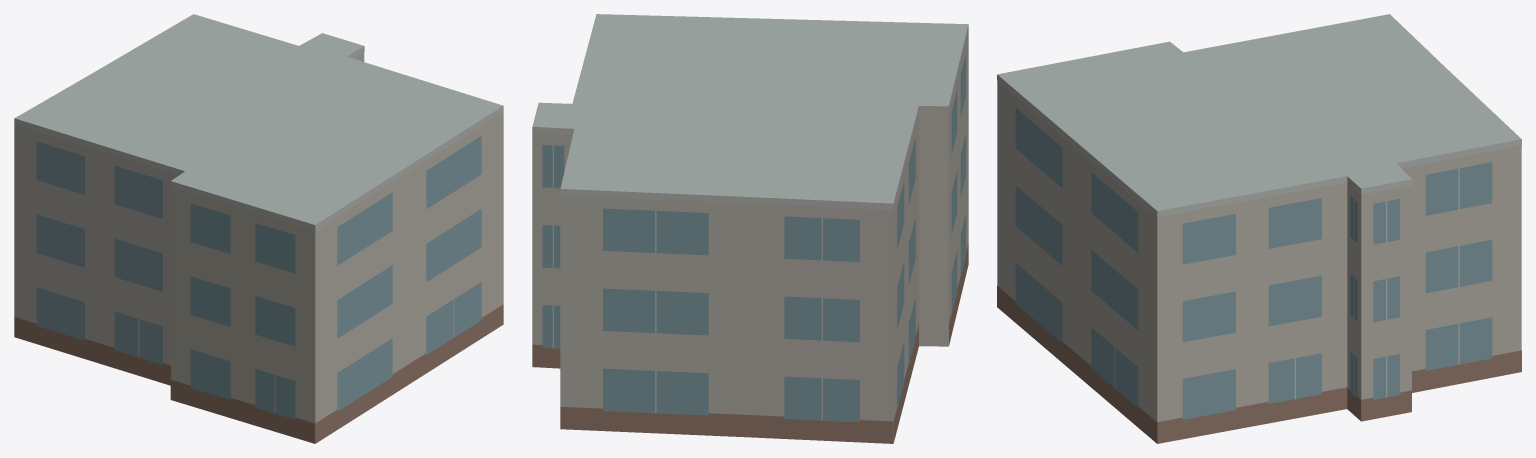
The model's file is survey-upis-32746664.glb.
3 views of the same model, side by side, from view 1: azimuth 30°, elevation 25°; view 2: azimuth 150°, elevation 25°; view 3: azimuth 270°, elevation 25° (orthographic). The views are drawn at different scales.
Parts seen in each view (by area): view 1: survey-upis-32746664.tmp; view 2: survey-upis-32746664.tmp; view 3: survey-upis-32746664.tmp.
Part boxes in pixels (left/top/right/bottom): survey-upis-32746664.tmp: left=14, top=14, right=503, bottom=443; survey-upis-32746664.tmp: left=532, top=14, right=968, bottom=443; survey-upis-32746664.tmp: left=997, top=14, right=1521, bottom=443.
Size of the model in its own units: 16.63 by 9.15 by 18.7.
